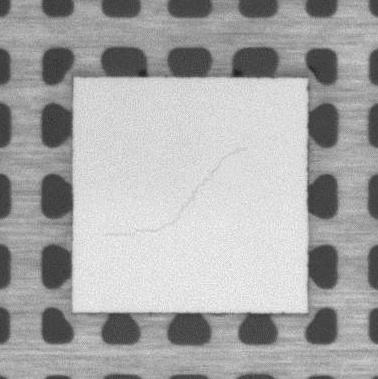DIE_CRACK: (95, 149, 247, 237)
